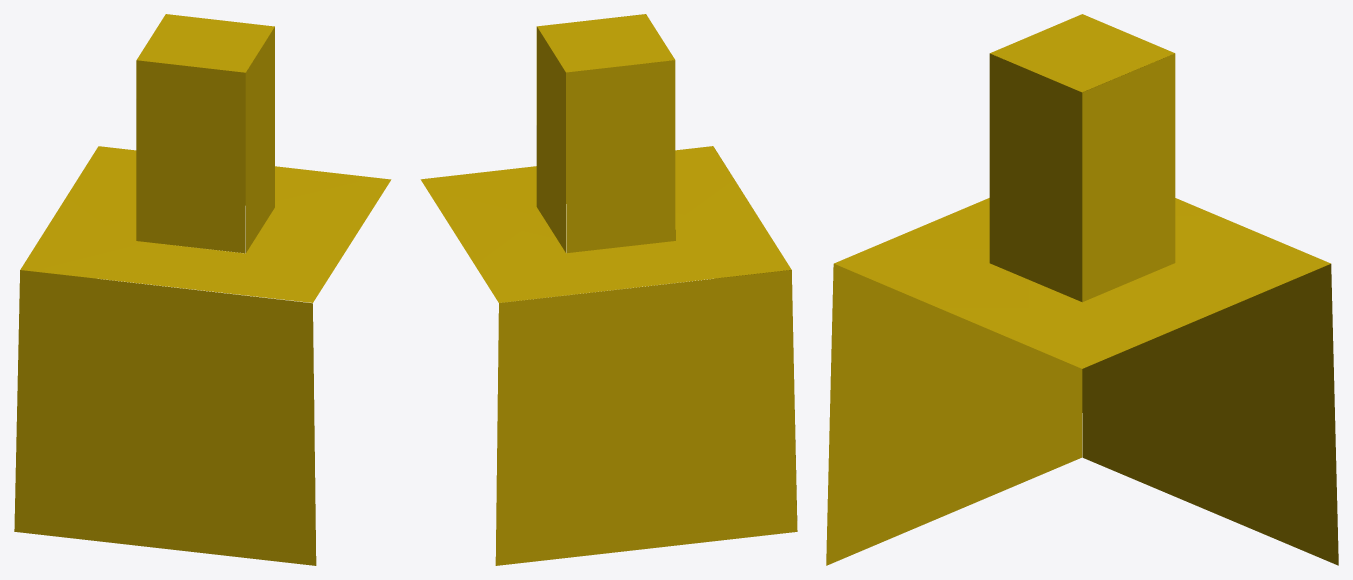
The model's file is original-2.obj.
3 views of the same model, side by side, from view 1: azimuth 30°, elevation 25°; view 2: azimuth 150°, elevation 25°; view 3: azimuth 270°, elevation 25° (orthographic). The views are drawn at different scales.
Visible parts, largest first — view 1: #ID18; view 2: #ID18; view 3: #ID18.
Part boxes in pixels (<box>): #ID18: <box>14,14,391,565</box>; #ID18: <box>420,14,797,565</box>; #ID18: <box>826,14,1338,565</box>.
Size of the model in its own units: 0.3222 by 0.3608 by 0.3269.
